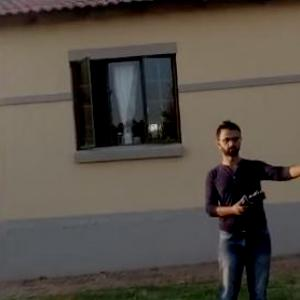follow: (197, 112, 300, 299)
